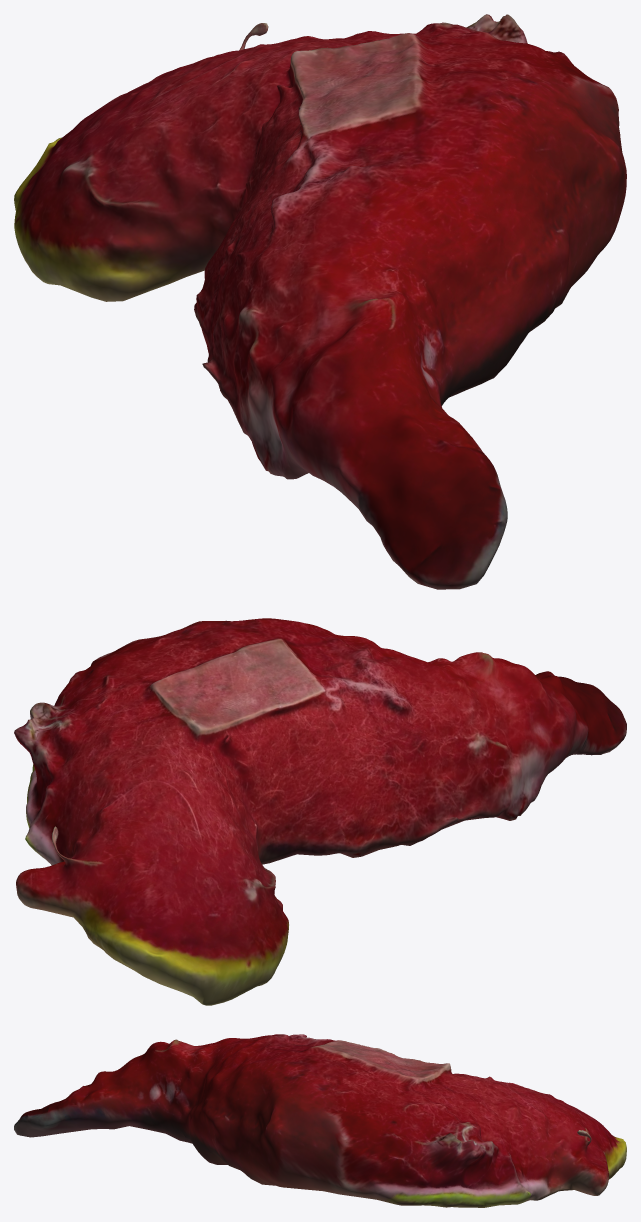
3 renders of one model, top to bottom at view 1: azimuth 30°, elevation 25°; view 2: azimuth 150°, elevation 25°; view 3: azimuth 270°, elevation 25°, orthographic. The views are drawn at different scales.
Bounding box in the file's own units: 0.4595 × 0.2587 × 0.8436.
1 material, 1 textured.
